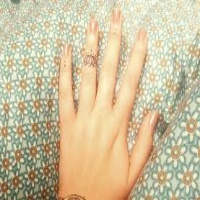ring: (77, 15, 101, 114)
